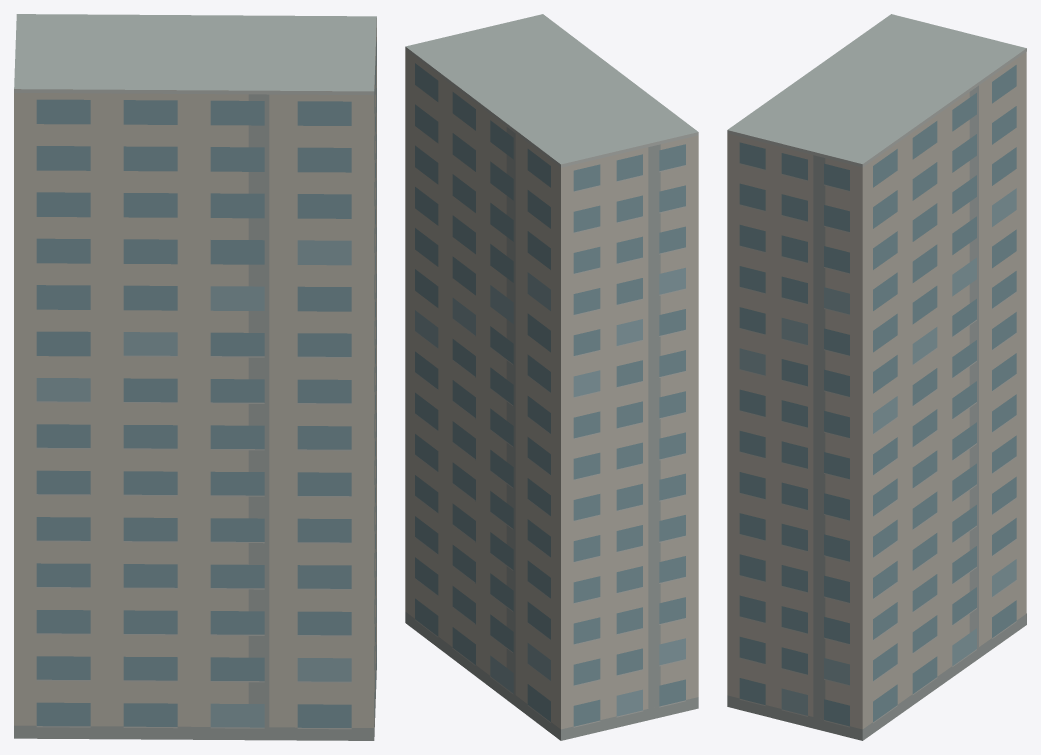
The model's file is residential-16545ae0-aaa0-4403-9894-51a2e7e7a72b.glb.
The picture shows the model from 3 angles, left to right: view 1: azimuth 30°, elevation 25°; view 2: azimuth 150°, elevation 25°; view 3: azimuth 270°, elevation 25°; orthographic projection. The views are drawn at different scales.
Parts seen in each view (by area): view 1: residential-16545ae0-aaa0-4403-9894-51a2e7e7a72b.tmp; view 2: residential-16545ae0-aaa0-4403-9894-51a2e7e7a72b.tmp; view 3: residential-16545ae0-aaa0-4403-9894-51a2e7e7a72b.tmp.
Boxes of the visible parts, <box> form: residential-16545ae0-aaa0-4403-9894-51a2e7e7a72b.tmp: <box>14,14,376,740</box>; residential-16545ae0-aaa0-4403-9894-51a2e7e7a72b.tmp: <box>405,14,698,740</box>; residential-16545ae0-aaa0-4403-9894-51a2e7e7a72b.tmp: <box>727,14,1026,740</box>.
Bounding box in the file's own units: 23.47 × 42 × 19.78.
